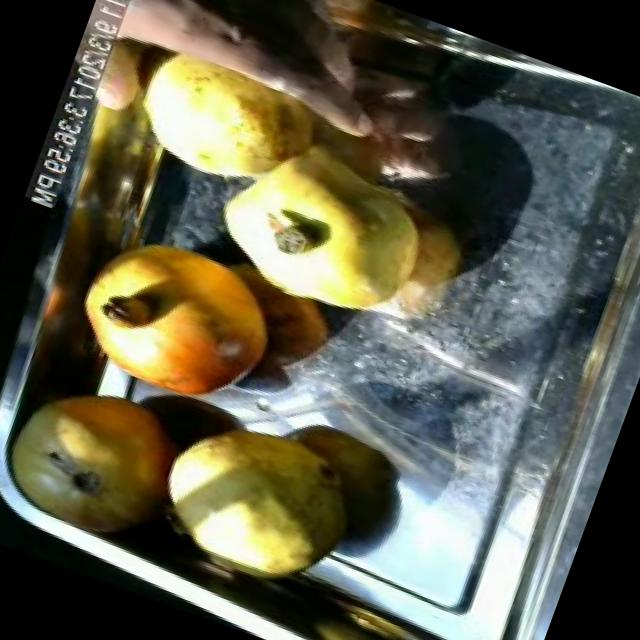fruit: (184, 106, 466, 356), (56, 208, 306, 433), (137, 388, 386, 611), (104, 22, 344, 220), (0, 355, 196, 565), (264, 0, 422, 65)
